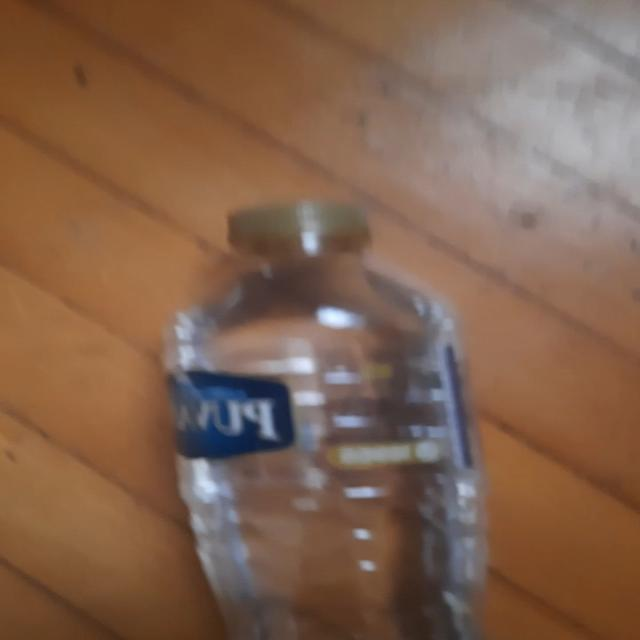Plastic: (160, 199, 490, 640), (169, 334, 473, 462), (228, 197, 374, 260)
